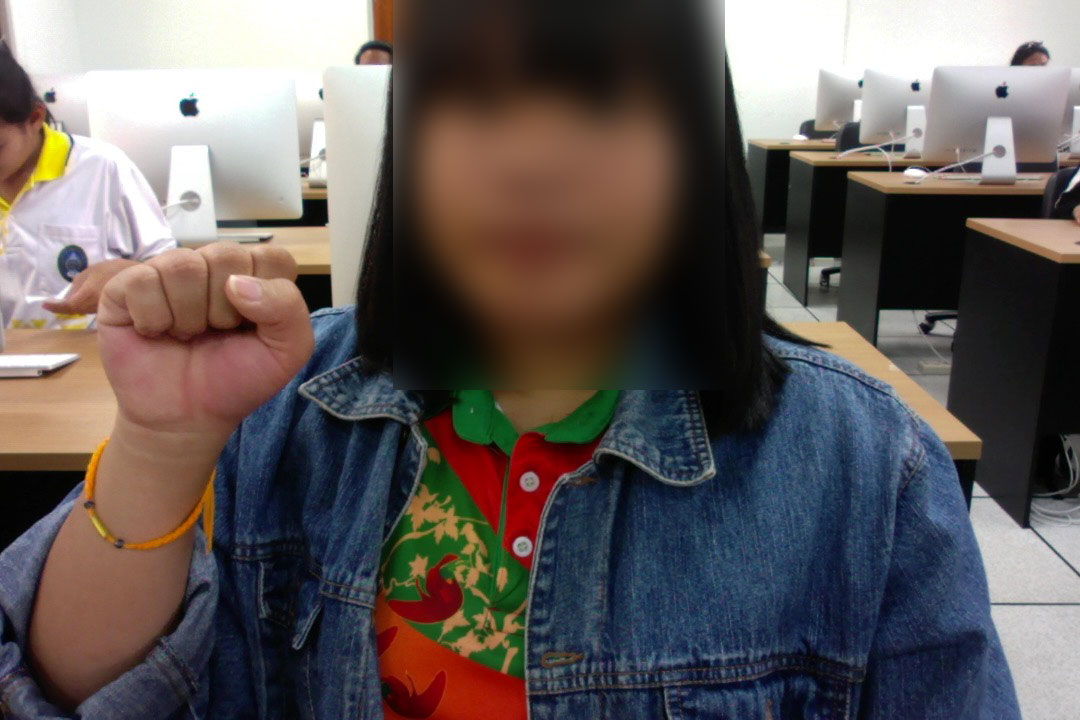sor: (92, 234, 321, 430)
